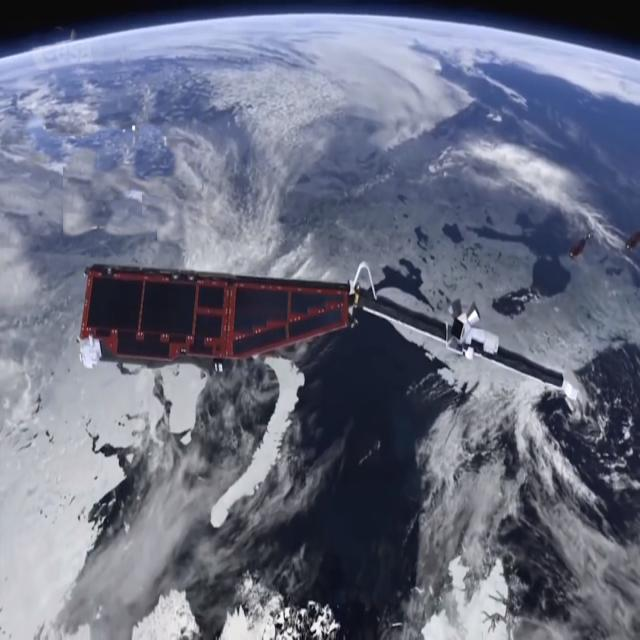satellite: (75, 230, 585, 428)
